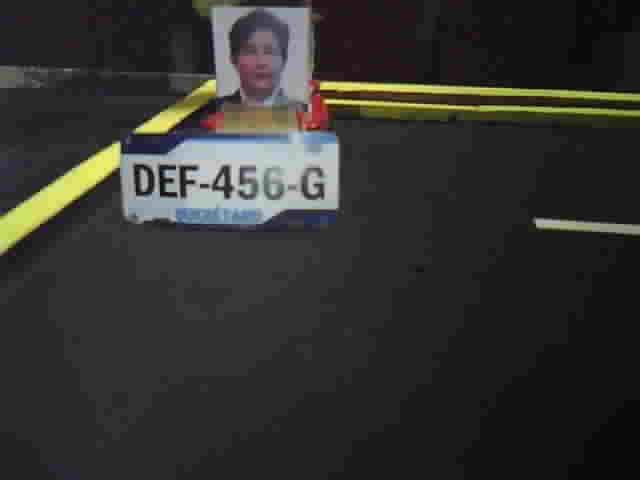PLACA: (118, 130, 344, 233)
ROSTRO: (216, 8, 309, 115)
